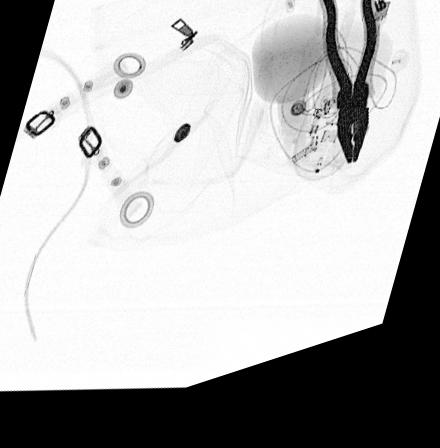Pliers: (317, 1, 378, 188)
